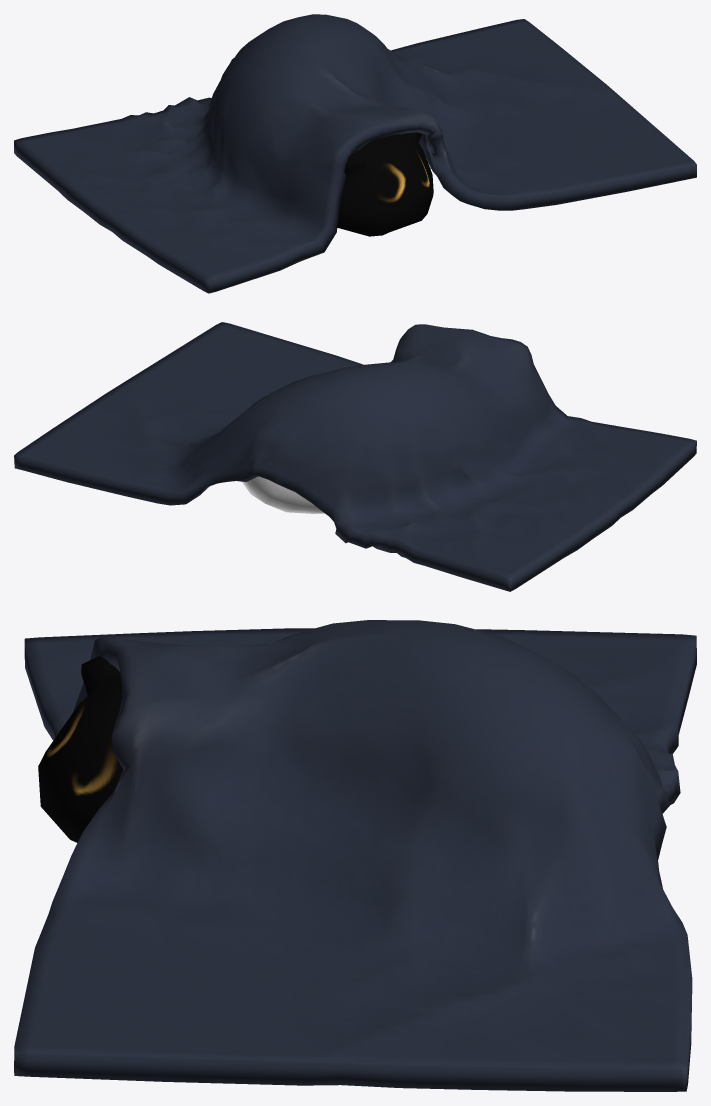
Rendered from cat.lod1.glb.
3 renders of one model, top to bottom at view 1: azimuth 30°, elevation 25°; view 2: azimuth 150°, elevation 25°; view 3: azimuth 270°, elevation 25°, orthographic. The views are drawn at different scales.
Parts seen in each view (by area): view 1: Cat in a Blanket.001; view 2: Cat in a Blanket.001; view 3: Cat in a Blanket.001.
Boxes of the visible parts, x1,y1,x2,y2 form: Cat in a Blanket.001: (14,14,696,293); Cat in a Blanket.001: (14,322,696,591); Cat in a Blanket.001: (14,620,696,1091).
Bounding box in the file's own units: 0.4152 × 0.0942 × 0.2714.
Materials: 3 (2 with a texture image).
